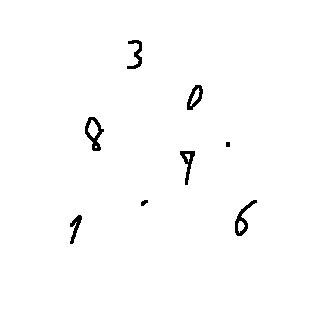.: (127, 191, 155, 210), (219, 135, 234, 153)
0: (185, 81, 210, 120)
1: (61, 210, 90, 247)
3: (125, 36, 148, 72)
6: (231, 195, 262, 241)
7: (173, 141, 207, 189)
8: (77, 110, 109, 153)
